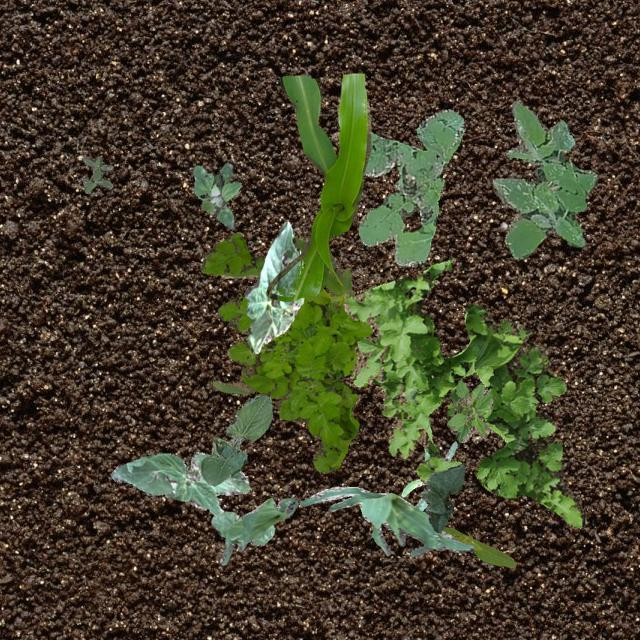crop: (266, 72, 370, 300), (212, 236, 354, 392), (300, 486, 473, 556), (110, 452, 250, 514), (244, 220, 302, 352), (198, 392, 272, 484), (220, 496, 296, 564), (399, 440, 456, 510), (418, 462, 464, 532), (440, 526, 514, 566), (210, 510, 274, 544)
weed: (342, 258, 586, 528), (200, 232, 372, 472), (356, 108, 464, 266), (492, 100, 596, 258), (192, 162, 240, 228), (446, 378, 494, 442), (80, 156, 112, 192)
